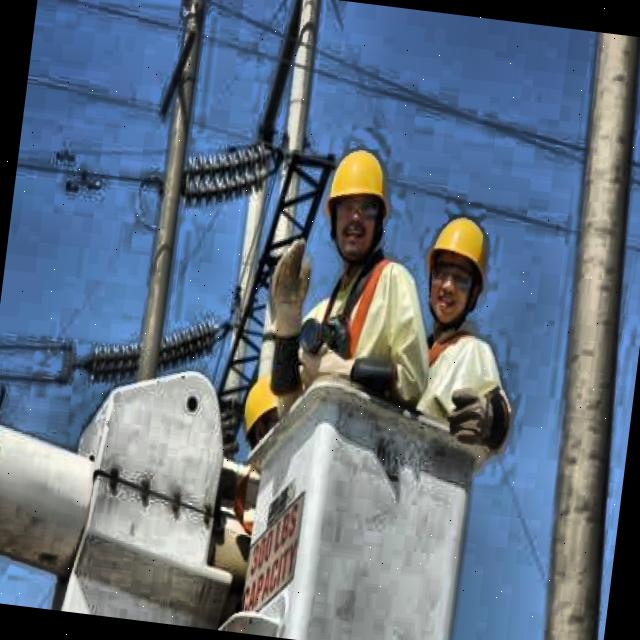helmet: (413, 200, 499, 337), (314, 134, 399, 269), (240, 378, 284, 449)
